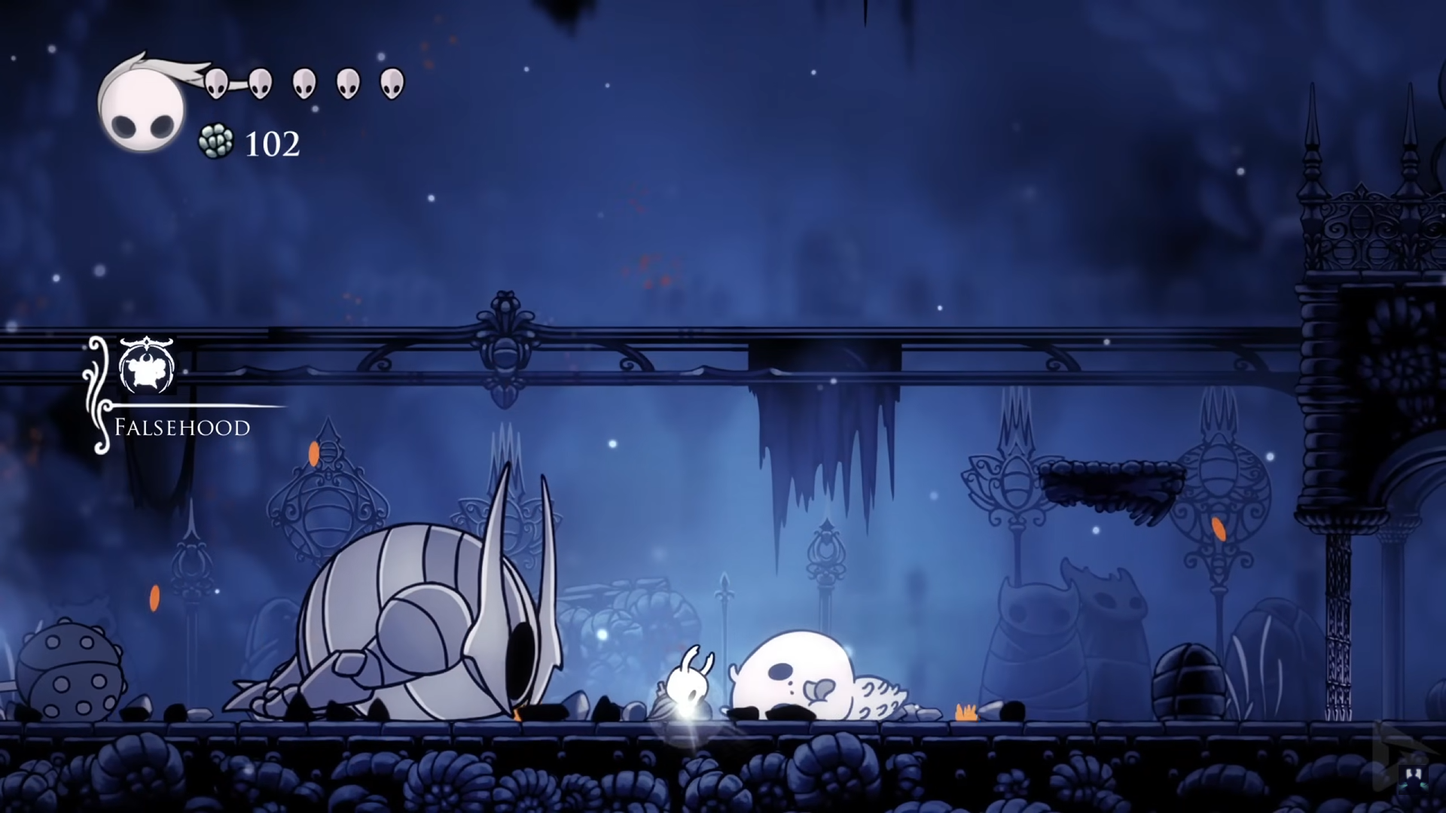HK: (656, 641, 712, 723)
